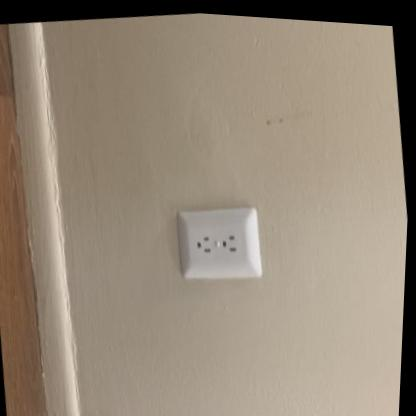OUTLET: (169, 200, 266, 289)
